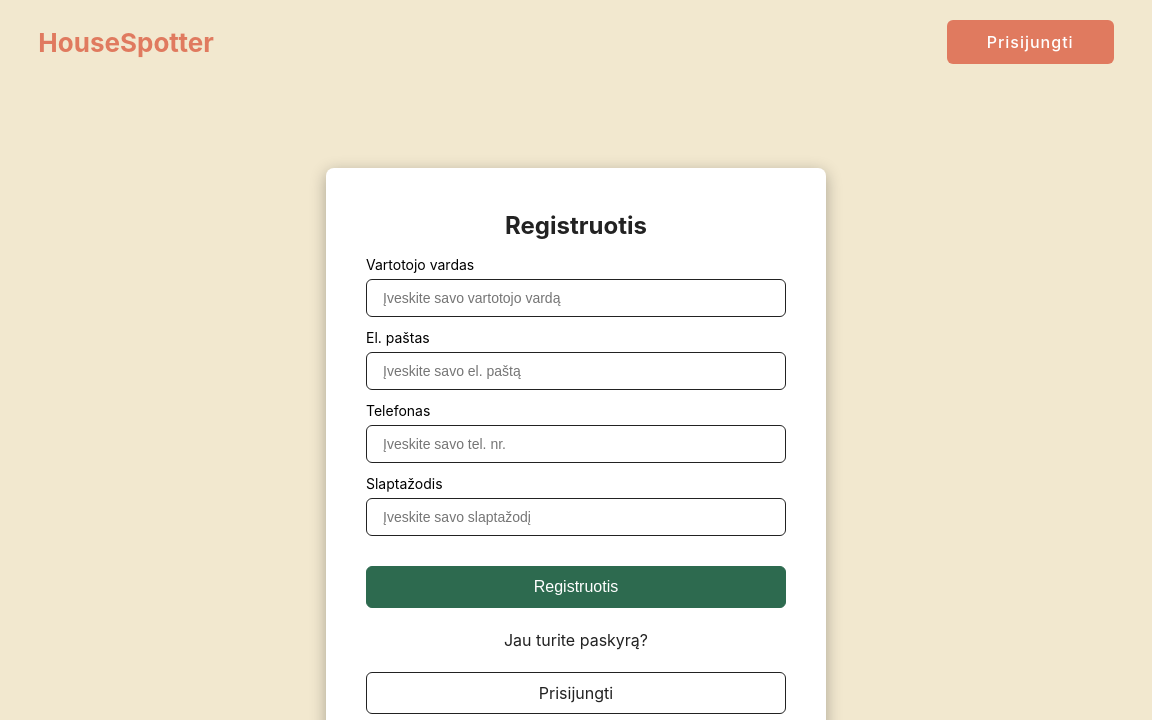
Registration Functionality › Registration fails with an existing username
This screenshot has width=1152, height=720.
Type "Test1" into the field named "username" at (576, 298), box [366,279,786,317]
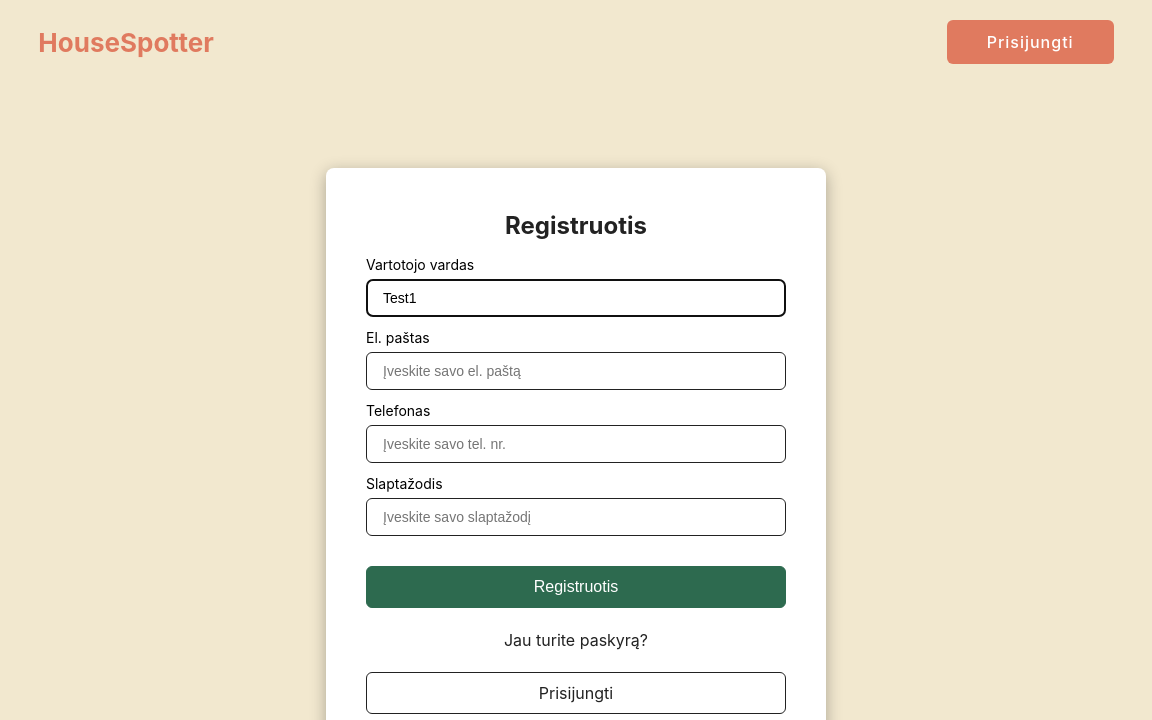
Type "Test1@gmail.com" into the field named "email" at (576, 371), box [366,352,786,390]
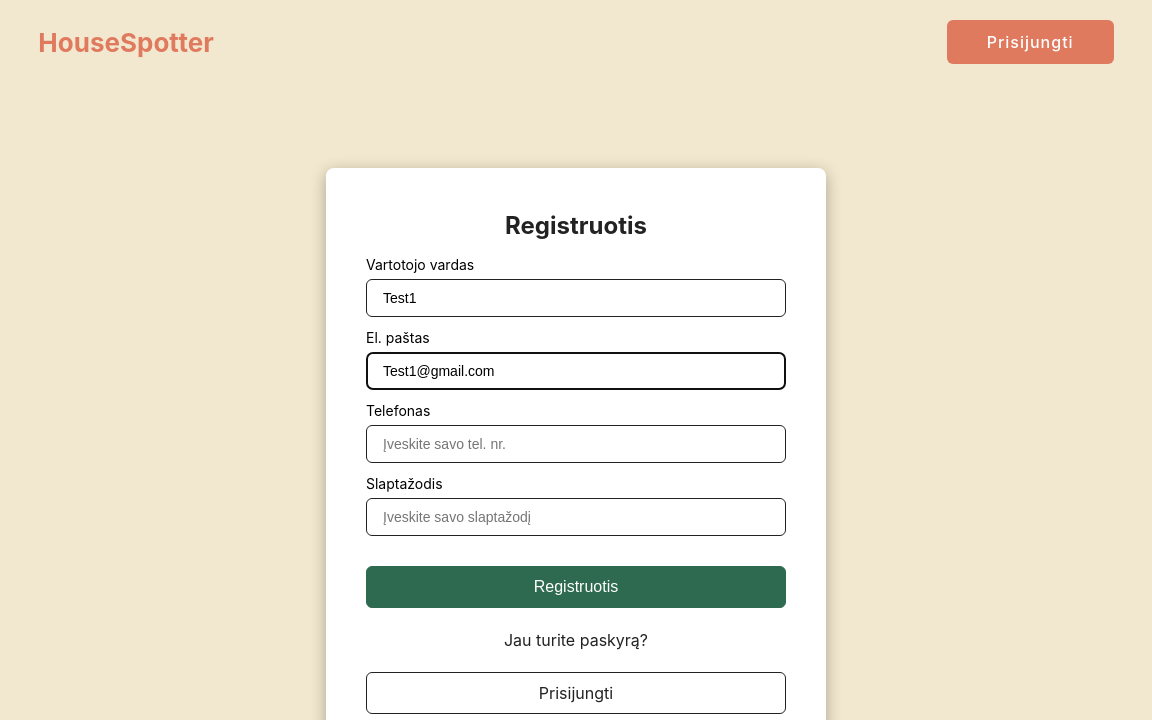
Type "1234567890" into the field named "phone" at (576, 444), box [366,425,786,463]
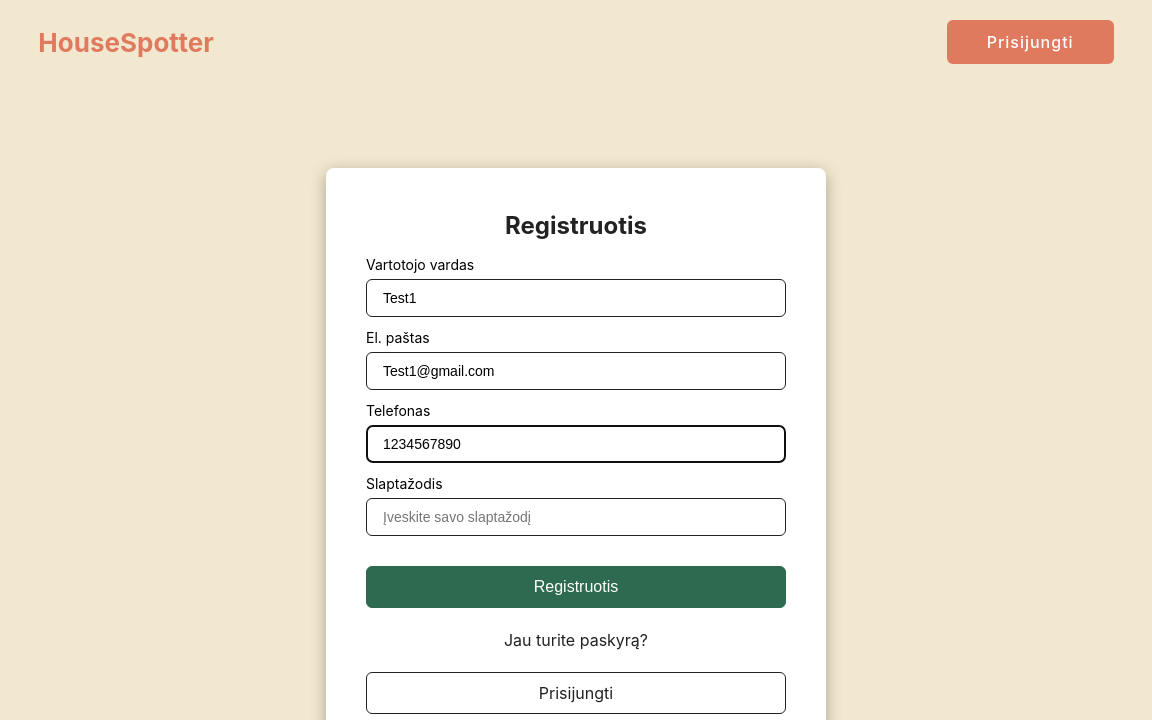
Type "Test1" into the password field named "password" at (576, 517), box [366,498,786,536]
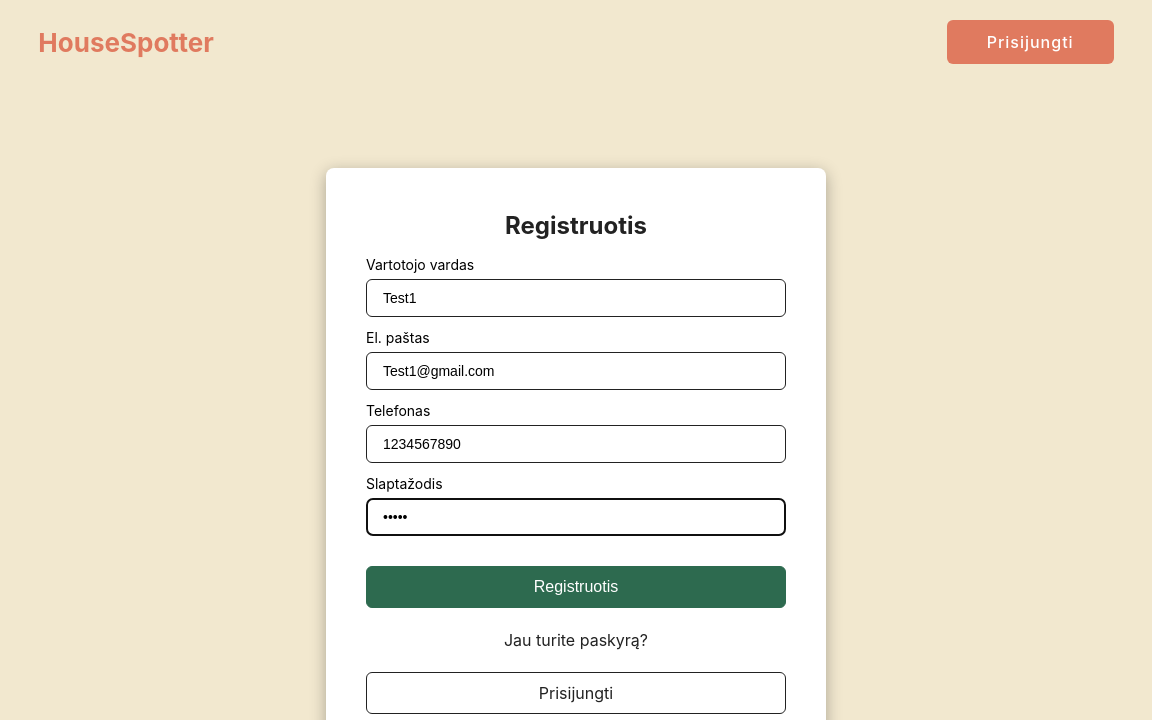
Click the submit button at (576, 587), box [366,566,786,608]
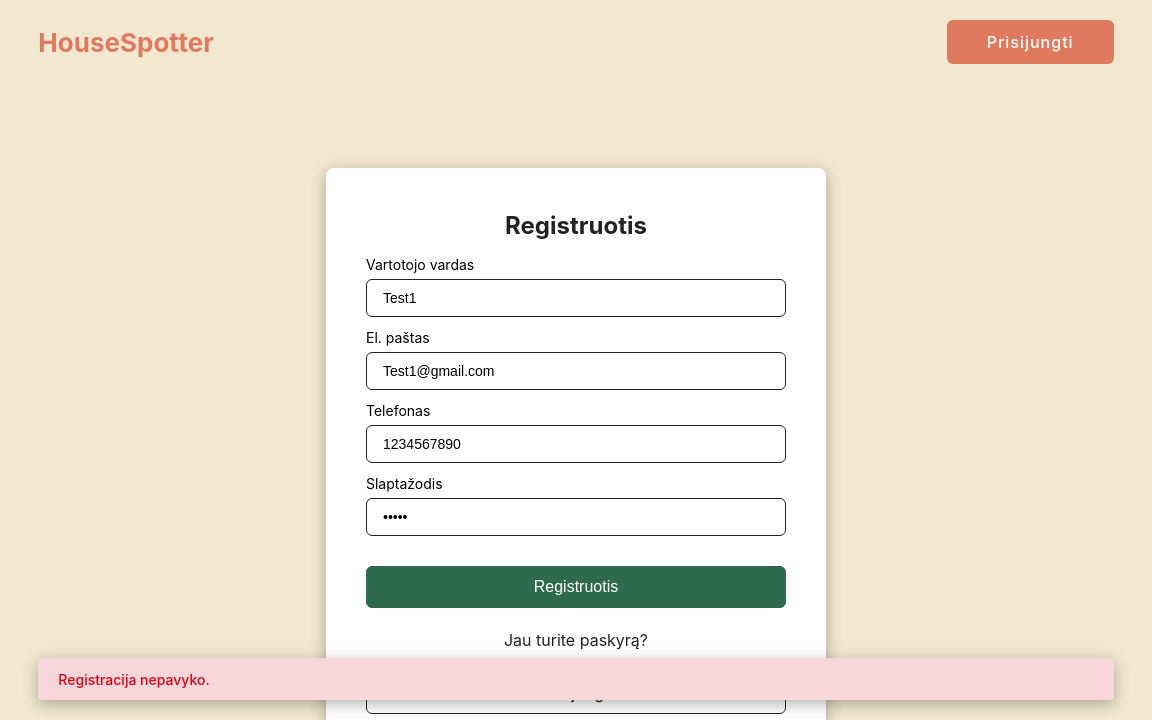
Expected: the text "Registracija nepavyko." is shown, [38,658,1114,700]
